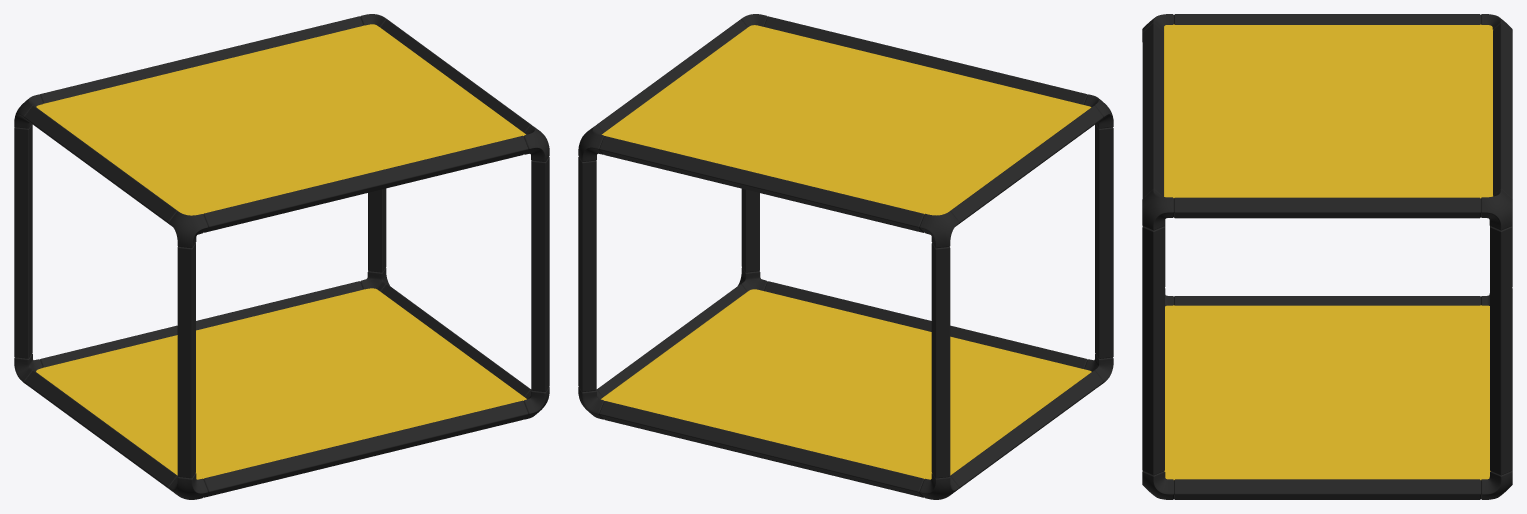
The picture shows the model from 3 angles, left to right: view 1: azimuth 30°, elevation 25°; view 2: azimuth 150°, elevation 25°; view 3: azimuth 270°, elevation 25°; orthographic projection. The views are drawn at different scales.
Parts seen in each view (by area): view 1: 479x374x329; view 2: 479x374x329; view 3: 479x374x329.
Part boxes in pixels (x1=…): 479x374x329: x1=14, y1=14, x2=549, y2=499; 479x374x329: x1=578, y1=14, x2=1113, y2=499; 479x374x329: x1=1142, y1=14, x2=1512, y2=499.
Bounding box in the file's own units: 0.5567 × 0.4066 × 0.4513.
